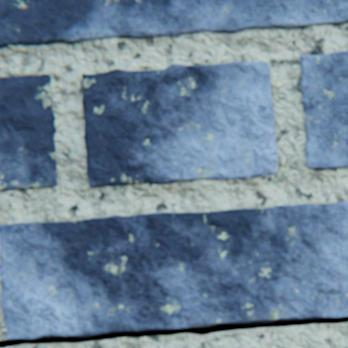brick: (0, 202, 347, 339), (83, 63, 277, 188), (0, 0, 347, 49), (0, 75, 58, 191), (300, 52, 347, 170)
crack: (0, 317, 347, 347)
